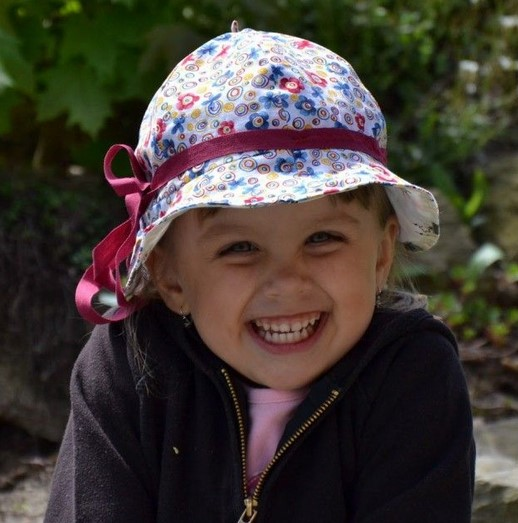face_no_mask: (169, 166, 398, 389)
